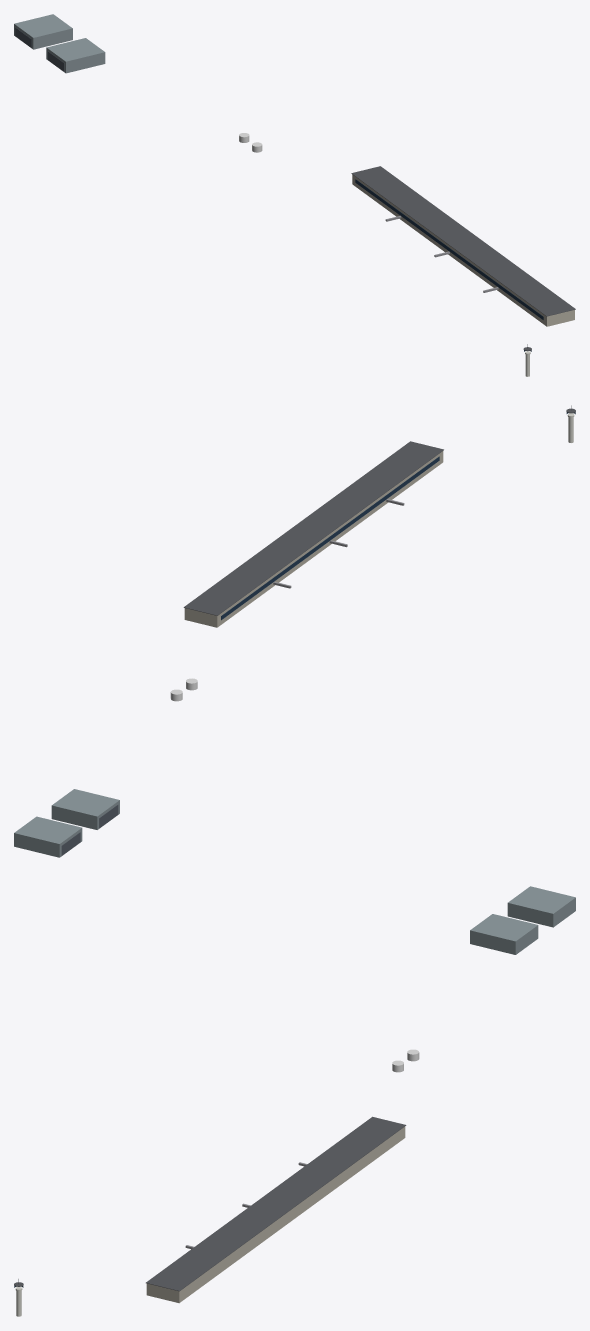
The model's file is airport.obj.
3 renders of one model, top to bottom at view 1: azimuth 30°, elevation 25°; view 2: azimuth 150°, elevation 25°; view 3: azimuth 330°, elevation 25°, orthographic. The views are drawn at different scales.
Parts seen in each view (by area): view 1: airport; view 2: airport; view 3: airport.
Boxes of the visible parts, <box> form: airport: <box>14,14,575,376</box>; airport: <box>14,405,575,857</box>; airport: <box>14,886,575,1316</box>.
Bounding box in the file's own units: 231 × 54 × 1476.
